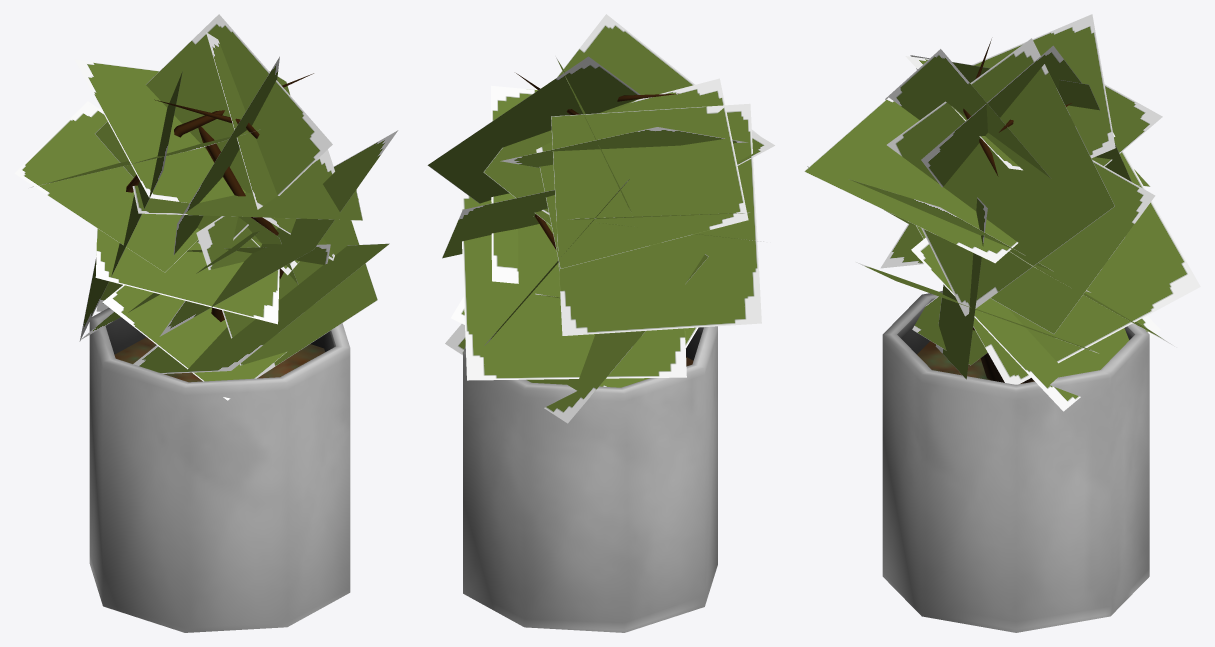
Rendered from Living Room Bush2.fbx.
3 views of the same model, side by side, from view 1: azimuth 30°, elevation 25°; view 2: azimuth 150°, elevation 25°; view 3: azimuth 270°, elevation 25° (orthographic). The views are drawn at different scales.
Visible parts, largest first — view 1: Living Room Bush2; view 2: Living Room Bush2; view 3: Living Room Bush2.
Part boxes in pixels (<box>): Living Room Bush2: <box>14,14,398,632</box>; Living Room Bush2: <box>427,14,774,632</box>; Living Room Bush2: <box>804,14,1200,632</box>.
Bounding box in the file's own units: 0.8351 × 1.34 × 0.8913.
Materials: 2 (2 with a texture image).
